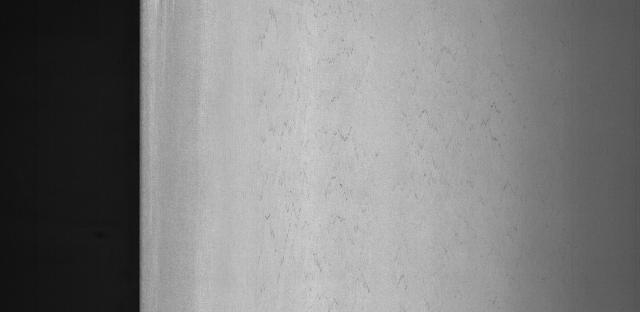silk_spot: (238, 6, 525, 306)
